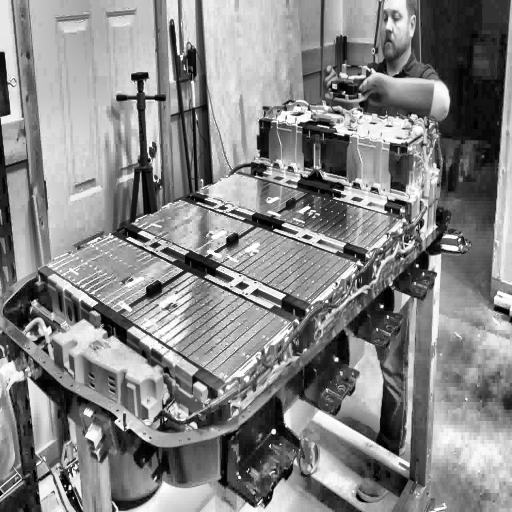battery_module: (121, 270, 293, 381), (208, 226, 355, 305), (47, 231, 183, 312), (130, 199, 254, 258), (270, 193, 398, 250), (199, 172, 308, 217)
connector: (322, 60, 371, 117)
high_volt_cable: (230, 117, 432, 413), (260, 93, 358, 122)
low_volt_cable: (144, 115, 447, 430)
